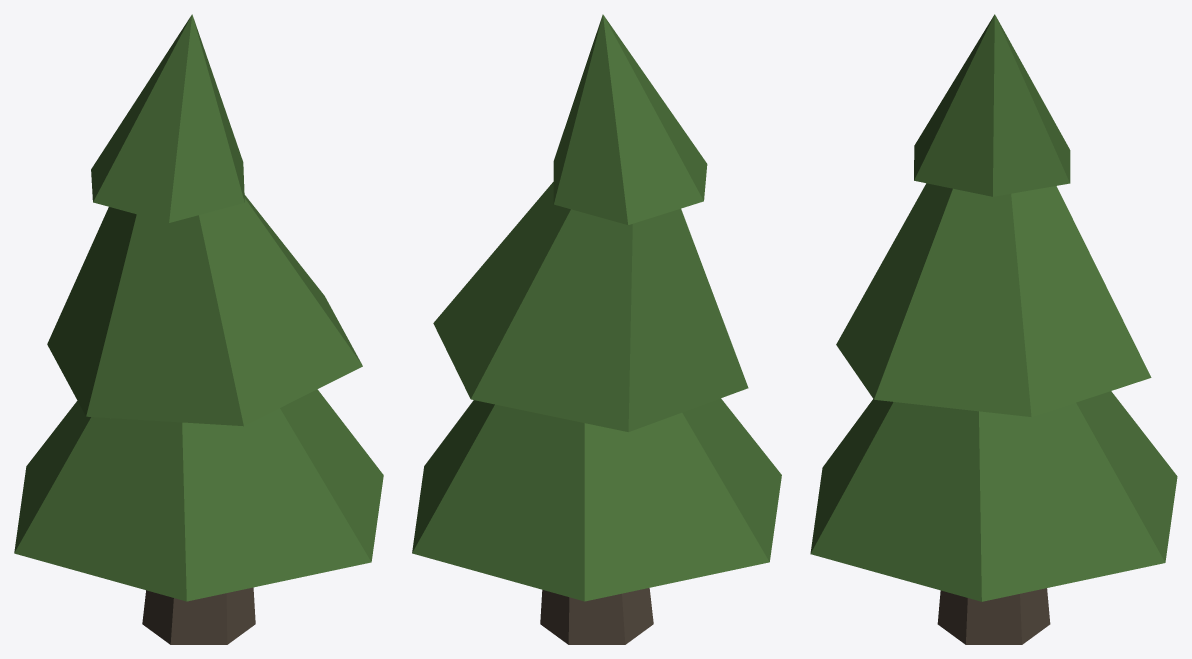
The model's file is tree02.fbx.
3 views of the same model, side by side, from view 1: azimuth 30°, elevation 25°; view 2: azimuth 150°, elevation 25°; view 3: azimuth 270°, elevation 25° (orthographic).
Visible parts, largest first — view 1: Cylinder.001; view 2: Cylinder.001; view 3: Cylinder.001.
Part boxes in pixels (bbox=[...]): Cylinder.001: bbox=[14, 14, 383, 644]; Cylinder.001: bbox=[412, 14, 781, 644]; Cylinder.001: bbox=[810, 14, 1177, 644].
Bounding box in the file's own units: 455 × 743 × 407.
